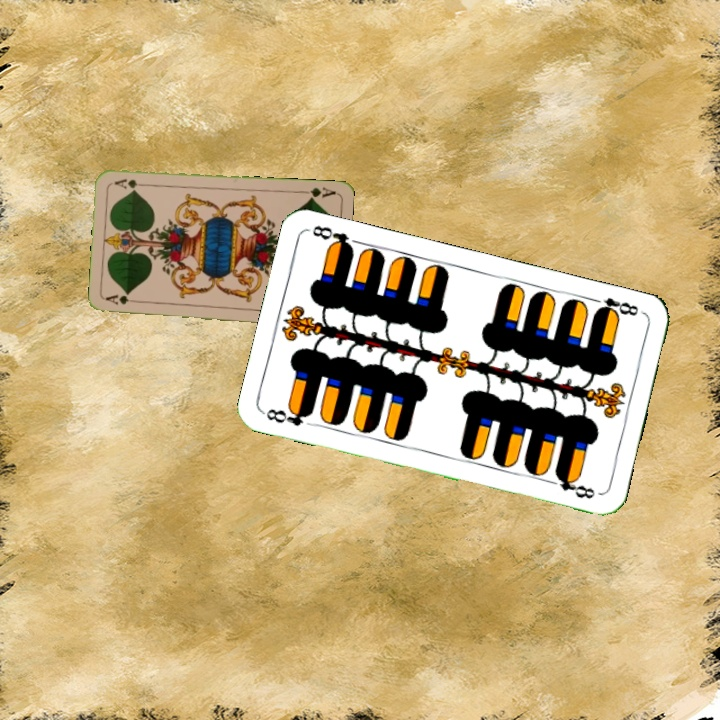E8: (587, 293, 641, 321), (260, 403, 315, 429)
GA: (297, 183, 338, 202), (103, 293, 143, 307)
